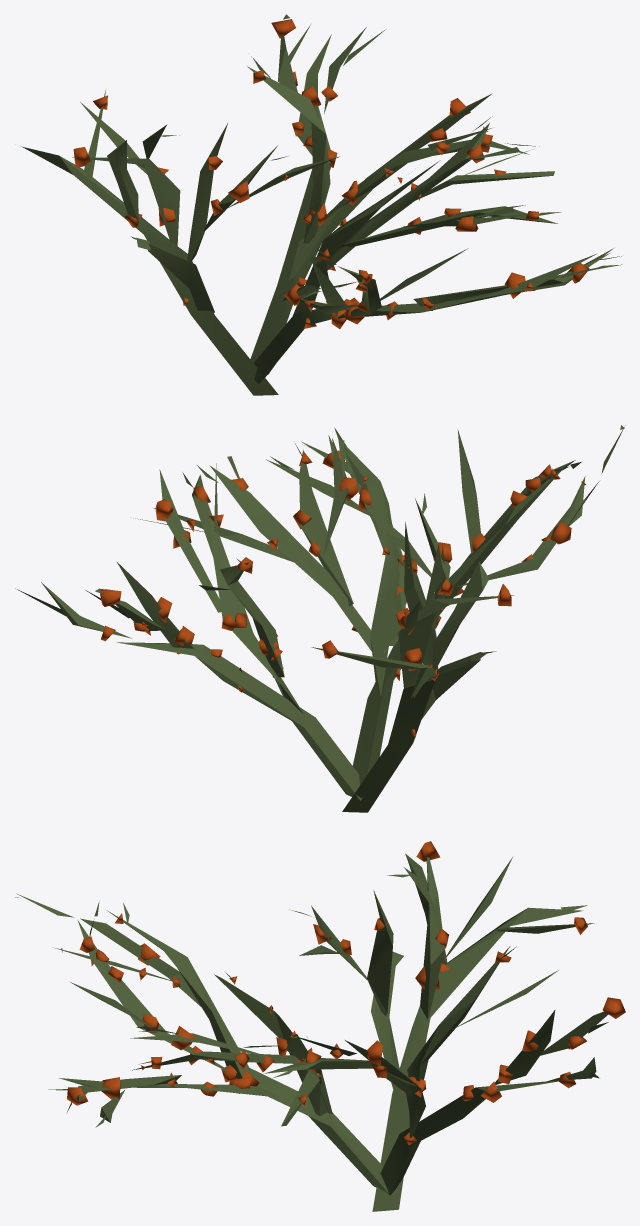
Rendered from shipovnikBushFull.fbx.
The picture shows the model from 3 angles, top to bottom: view 1: azimuth 30°, elevation 25°; view 2: azimuth 150°, elevation 25°; view 3: azimuth 270°, elevation 25°; orthographic projection. The views are drawn at different scales.
Parts seen in each view (by area): view 1: tree.005; view 2: tree.005; view 3: tree.005.
Boxes of the visible parts, <box> form: tree.005: <box>21,14,622,395</box>; tree.005: <box>15,425,625,812</box>; tree.005: <box>15,841,625,1211</box>.
Size of the model in its own units: 168 by 109 by 203.
